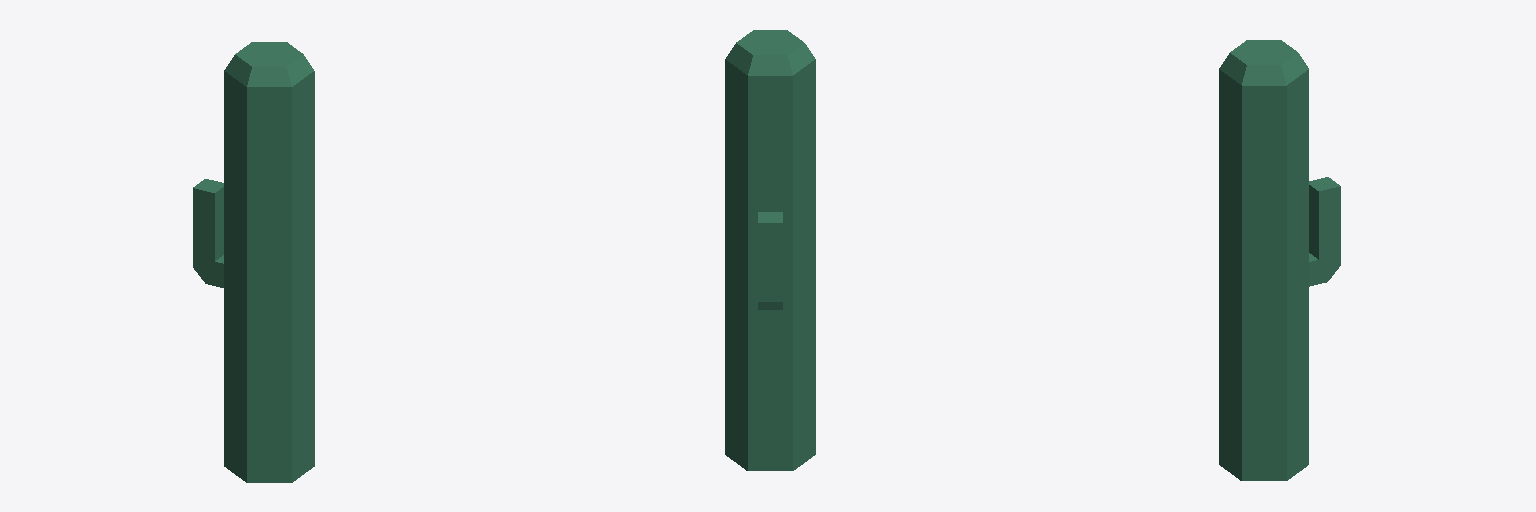
Rendered from cactus.obj.
3 renders of one model, left to right at view 1: azimuth 30°, elevation 25°; view 2: azimuth 150°, elevation 25°; view 3: azimuth 270°, elevation 25°, orthographic.
Visible parts, largest first — view 1: Mesh1_Group1_Model; view 2: Mesh1_Group1_Model; view 3: Mesh1_Group1_Model.
Boxes of the visible parts, box(x1,y1,x2,y2) form: Mesh1_Group1_Model: box(193, 42, 314, 482); Mesh1_Group1_Model: box(725, 30, 815, 470); Mesh1_Group1_Model: box(1219, 40, 1340, 480).
Bounding box in the file's own units: 0.3019 × 1.51 × 0.4051.